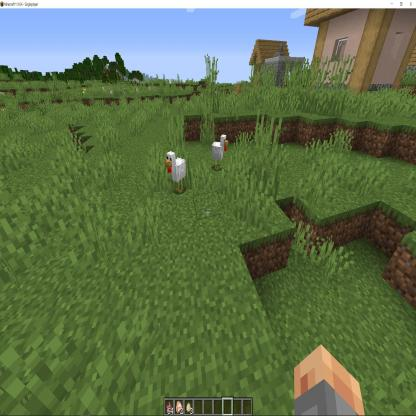minecraft-pigs: (164, 147, 189, 199), (210, 132, 230, 174), (101, 85, 106, 97), (133, 87, 140, 95), (107, 88, 113, 97), (122, 87, 126, 96)
